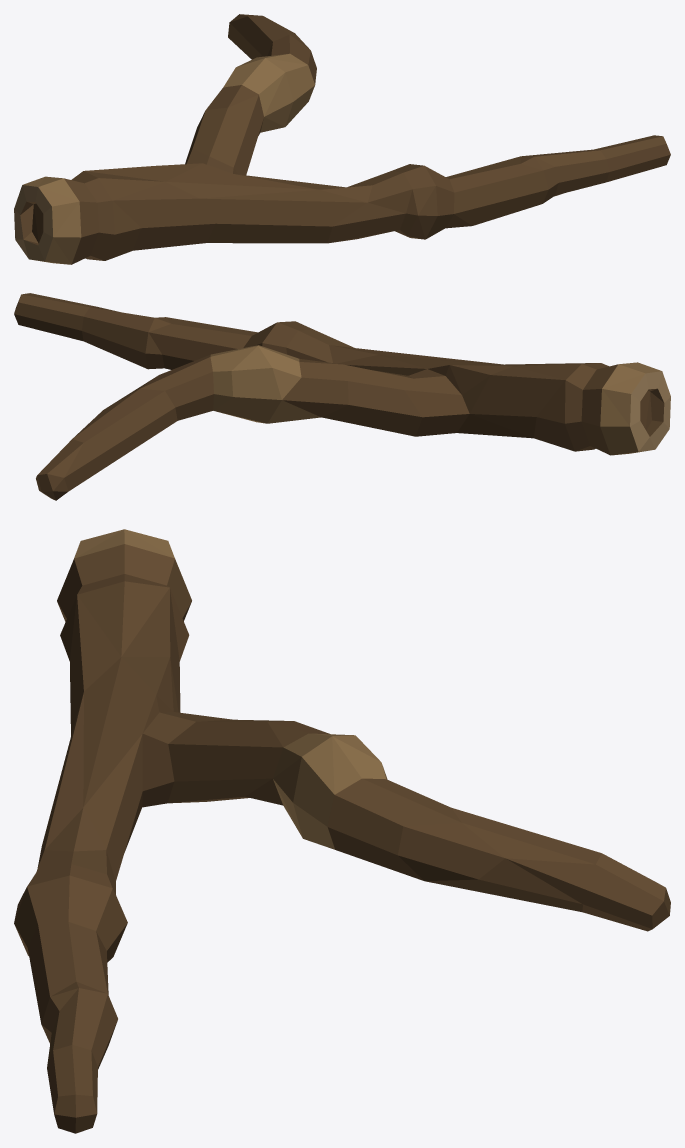
File: EM_Branch03a.fbx
3 renders of one model, top to bottom at view 1: azimuth 30°, elevation 25°; view 2: azimuth 150°, elevation 25°; view 3: azimuth 270°, elevation 25°, orthographic. The views are drawn at different scales.
Parts seen in each view (by area): view 1: EM_Branch03a_LOD0; view 2: EM_Branch03a_LOD0; view 3: EM_Branch03a_LOD0.
Boxes of the visible parts, x1,y1,x2,y2 form: EM_Branch03a_LOD0: (14,14,670,264); EM_Branch03a_LOD0: (14,293,670,500); EM_Branch03a_LOD0: (14,529,670,1133).
Size of what is drawn, in the model's own units: 1.28 by 0.253 by 0.7899.
